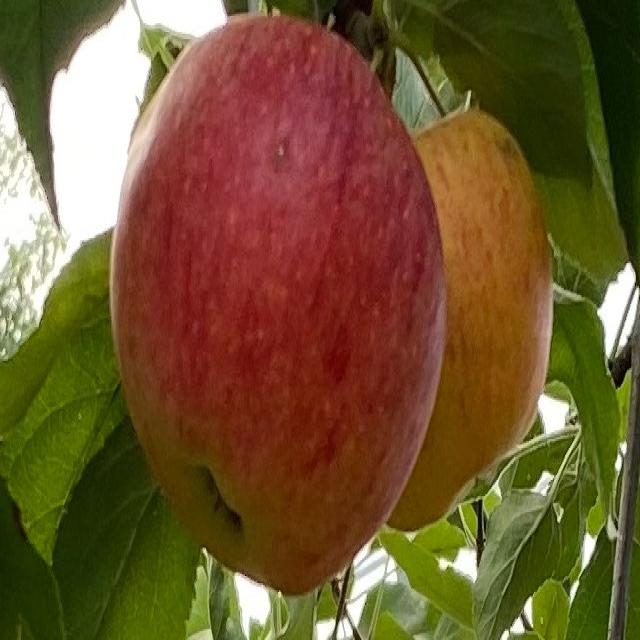100-_ripeness: (112, 18, 445, 594), (388, 116, 552, 530)
